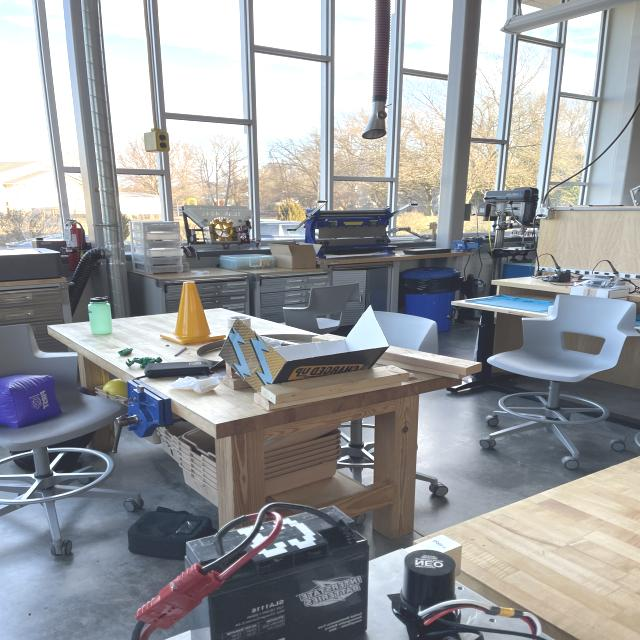frc_cone: (160, 277, 218, 344)
frc_cube: (0, 367, 66, 437)
